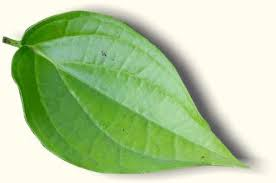leaf: (10, 11, 248, 172)
